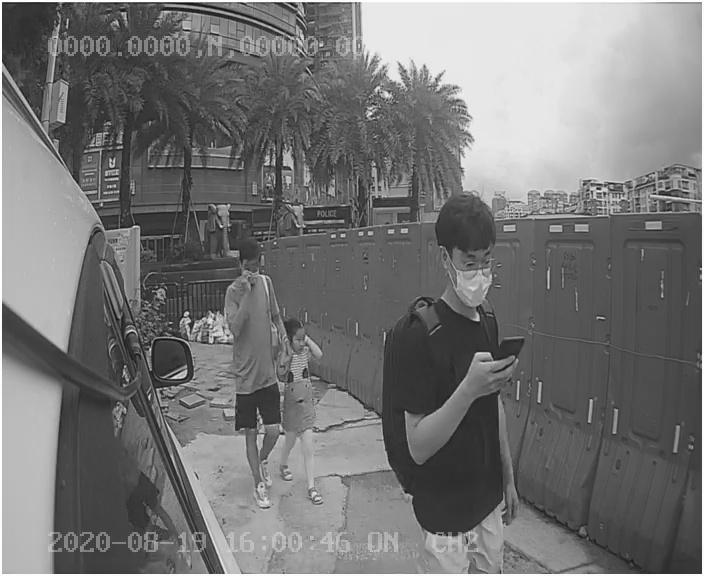person: (374, 184, 534, 524), (216, 244, 292, 507)
